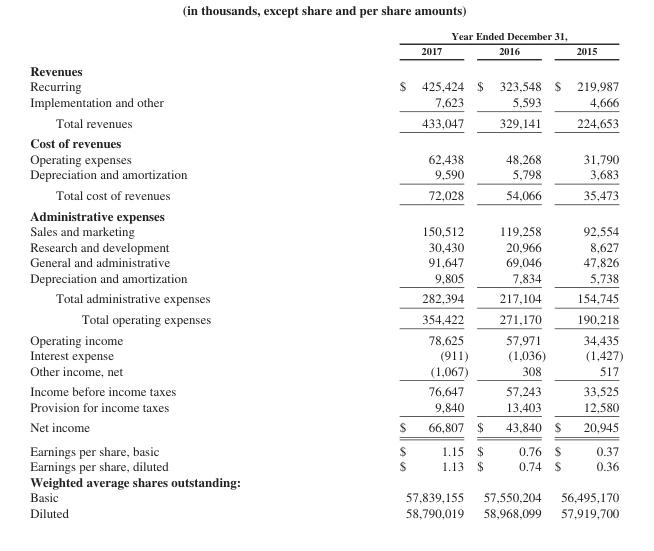table: (29, 29, 622, 519)
table column: (29, 29, 304, 519), (304, 29, 471, 519), (471, 29, 549, 519), (549, 29, 622, 519)
table column header: (29, 29, 622, 59)
table projected row header: (29, 59, 622, 78), (29, 132, 622, 150), (29, 204, 622, 222), (29, 473, 622, 489)
table row: (29, 416, 622, 438), (29, 111, 622, 132), (29, 287, 622, 308), (29, 184, 622, 204), (29, 308, 622, 328), (29, 438, 622, 458), (29, 59, 622, 78), (29, 93, 622, 111), (29, 132, 622, 150), (29, 166, 622, 184), (29, 204, 622, 222), (29, 269, 622, 287), (29, 328, 622, 346), (29, 362, 622, 380), (29, 380, 622, 398), (29, 398, 622, 416), (29, 42, 622, 59), (29, 150, 622, 166), (29, 222, 622, 238), (29, 253, 622, 269), (29, 346, 622, 362), (29, 473, 622, 489), (29, 78, 622, 93), (29, 238, 622, 253), (29, 458, 622, 473), (29, 489, 622, 504), (29, 504, 622, 519), (29, 29, 622, 42)
table spanning cell: (304, 29, 622, 42)
